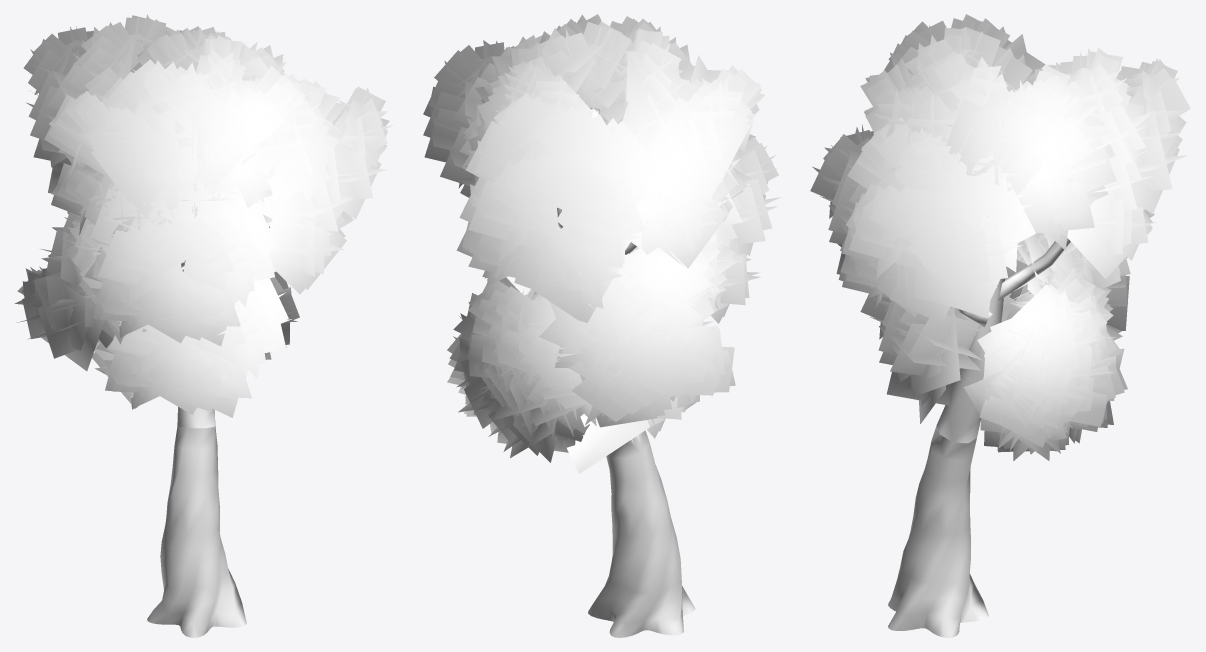
The model's file is arbre_5.glb.
3 views of the same model, side by side, from view 1: azimuth 30°, elevation 25°; view 2: azimuth 150°, elevation 25°; view 3: azimuth 270°, elevation 25° (orthographic). The views are drawn at different scales.
Visible parts, largest first — view 1: TwistedTree_5, TwistedTree_5-col; view 2: TwistedTree_5, TwistedTree_5-col; view 3: TwistedTree_5, TwistedTree_5-col.
Part boxes in pixels (<box>): TwistedTree_5: <box>14,14,393,428</box>; TwistedTree_5-col: <box>147,425,246,637</box>; TwistedTree_5: <box>423,14,781,473</box>; TwistedTree_5-col: <box>588,430,695,637</box>; TwistedTree_5: <box>810,14,1190,460</box>; TwistedTree_5-col: <box>888,425,988,637</box>.
Size of the model in its own units: 9.49 by 15.66 by 9.39.
2 materials, 1 textured.
